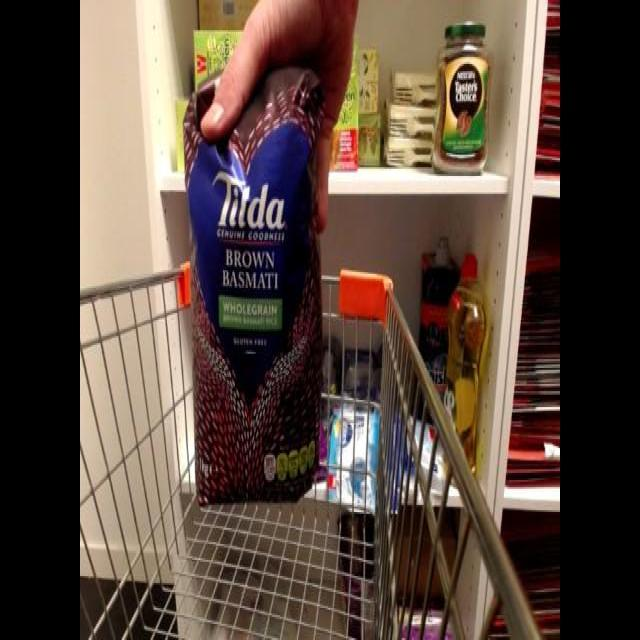Tida: (178, 61, 336, 515)
